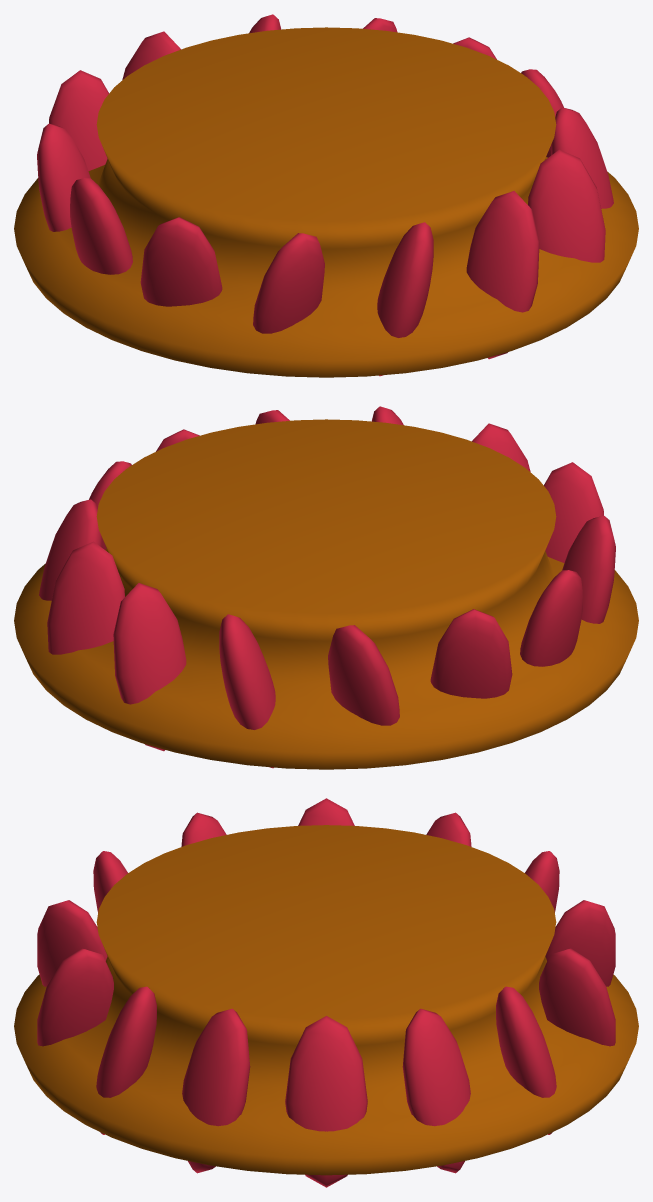
The model's file is lotus-peetha.glb.
3 views of the same model, one above another, from view 1: azimuth 30°, elevation 25°; view 2: azimuth 150°, elevation 25°; view 3: azimuth 270°, elevation 25° (orthographic).
Parts seen in each view (by area): view 1: seat, petals; view 2: seat, petals; view 3: seat, petals.
Boxes of the visible parts, x1,y1,x2,y2 form: seat: [14, 27, 638, 377]; petals: [37, 14, 613, 376]; seat: [14, 419, 638, 769]; petals: [39, 406, 615, 768]; seat: [14, 825, 638, 1175]; petals: [37, 798, 615, 1187].
Bounding box in the file's own units: 1.36 × 0.3671 × 1.36.
